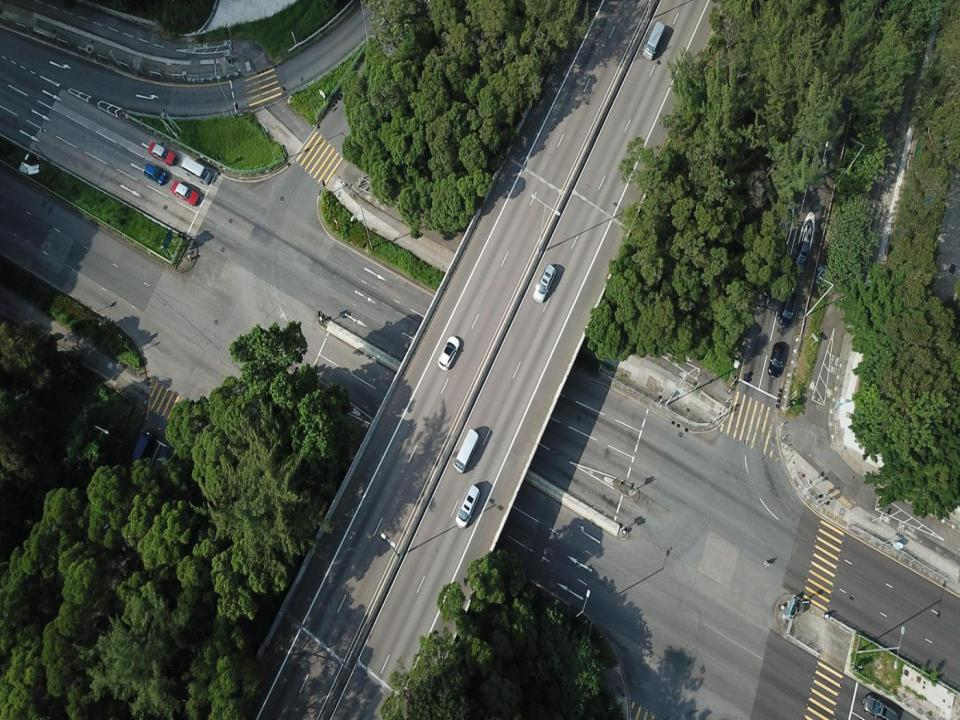car: (455, 484, 481, 529), (532, 263, 557, 303), (862, 694, 900, 719), (146, 141, 178, 166), (170, 180, 200, 206), (438, 335, 460, 370), (151, 446, 173, 480), (778, 291, 798, 328), (767, 341, 786, 378), (793, 240, 810, 274), (143, 162, 167, 185), (764, 268, 781, 300)
van: (128, 430, 157, 474), (454, 428, 480, 474), (180, 156, 212, 185), (643, 20, 665, 60)
